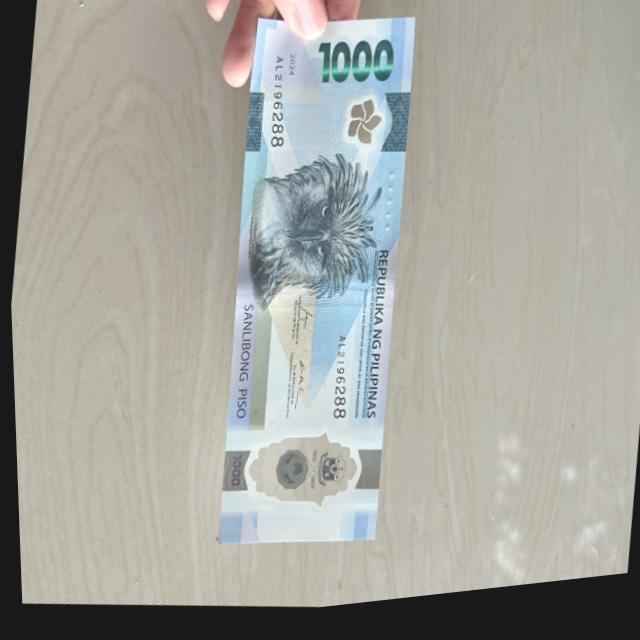clear_window: (238, 425, 358, 525)
eagle: (243, 144, 384, 319)
sampaguita: (343, 101, 386, 156)
